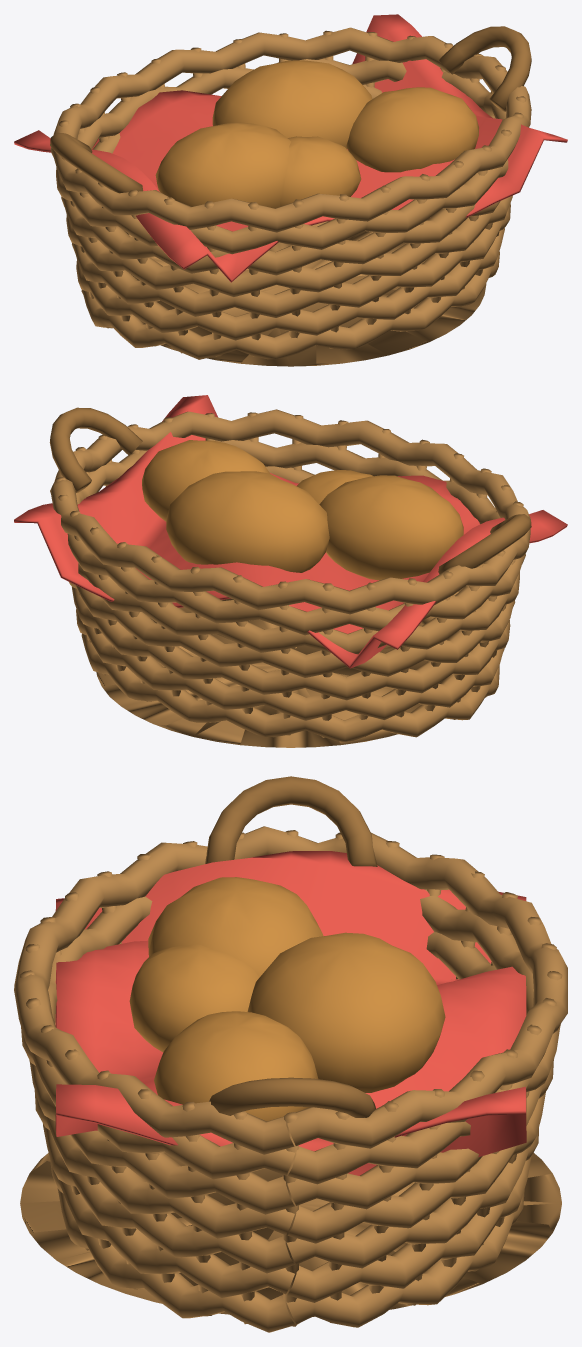
File: props-breadbasket.glb
3 views of the same model, one above another, from view 1: azimuth 30°, elevation 25°; view 2: azimuth 150°, elevation 25°; view 3: azimuth 270°, elevation 25° (orthographic). The views are drawn at different scales.
Visible parts, largest first — view 1: BreadBasket__Wicker, BreadBasket__Rolls, BreadBasket__Cloth, BreadBasket__Handles; view 2: BreadBasket__Wicker, BreadBasket__Rolls, BreadBasket__Cloth, BreadBasket__Handles; view 3: BreadBasket__Wicker, BreadBasket__Rolls, BreadBasket__Cloth, BreadBasket__Handles.
Boxes of the visible parts, left/top/right/bottom form: BreadBasket__Wicker: left=50, top=27, right=531, bottom=366; BreadBasket__Rolls: left=155, top=60, right=478, bottom=208; BreadBasket__Cloth: left=14, top=14, right=567, bottom=282; BreadBasket__Handles: left=50, top=26, right=531, bottom=193; BreadBasket__Wicker: left=50, top=409, right=530, bottom=747; BreadBasket__Rolls: left=142, top=440, right=463, bottom=580; BreadBasket__Cloth: left=14, top=395, right=567, bottom=668; BreadBasket__Handles: left=49, top=407, right=531, bottom=574; BreadBasket__Wicker: left=14, top=826, right=567, bottom=1332; BreadBasket__Rolls: left=129, top=877, right=445, bottom=1121; BreadBasket__Cloth: left=55, top=851, right=526, bottom=1175; BreadBasket__Handles: left=205, top=776, right=377, bottom=1117.
Bounding box in the file's own units: 41.06 × 17.28 × 30.66.
